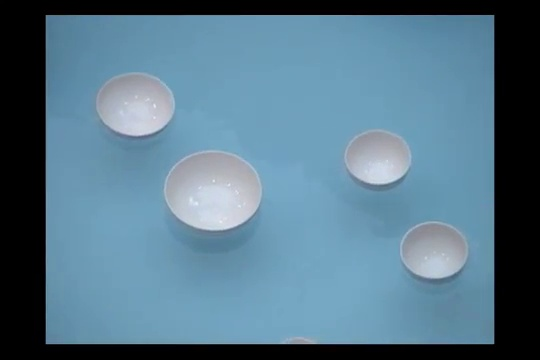bowl: (162, 150, 262, 237), (95, 72, 176, 141), (399, 220, 468, 285), (344, 129, 410, 191)
